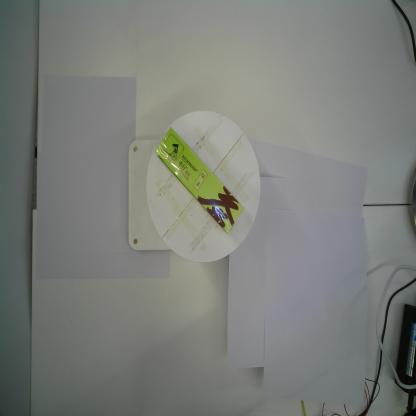Instant Drink: (154, 125, 245, 237)
